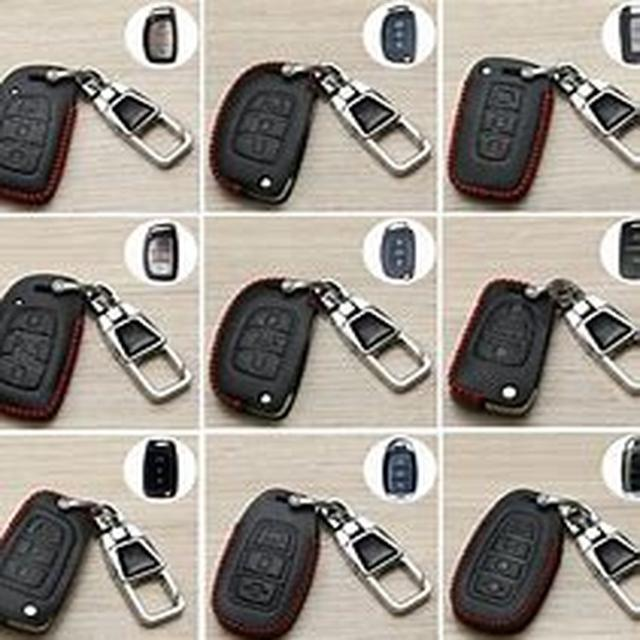key: (196, 230, 430, 422), (208, 452, 432, 640), (203, 34, 432, 212), (443, 452, 640, 640), (437, 242, 640, 422), (437, 28, 640, 202), (0, 244, 193, 426), (0, 454, 179, 638), (0, 40, 178, 225)
